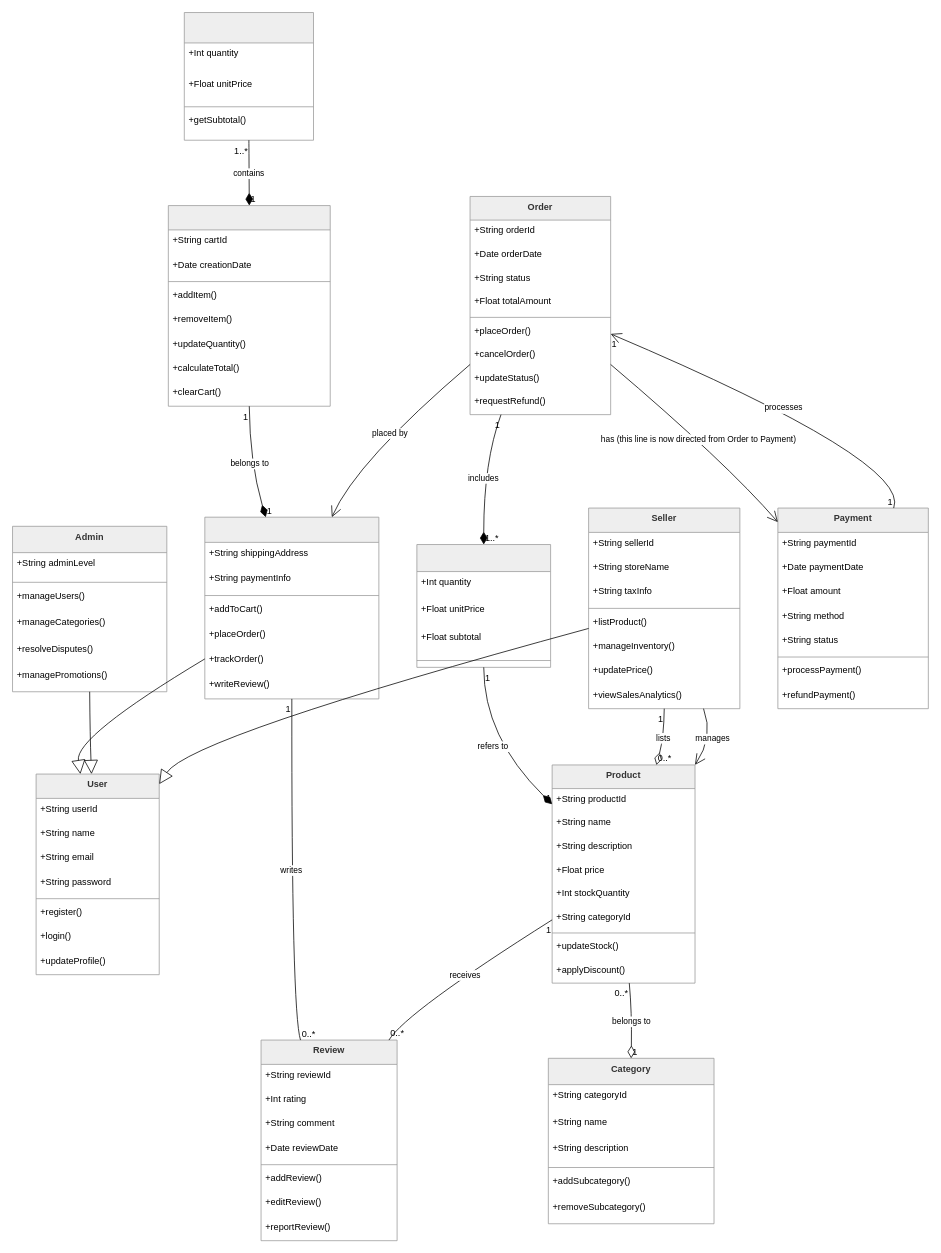
This 941x1253 diagram has some shape labels left out. The shapes that lost their labels are listed below. From the top down, each one's box as (x1, y1, x2, y2) in pixels, then its label:
(184, 12, 314, 140): CartItem
(168, 205, 330, 406): ShoppingCart
(204, 516, 379, 699): Customer
(416, 544, 551, 667): OrderItem
